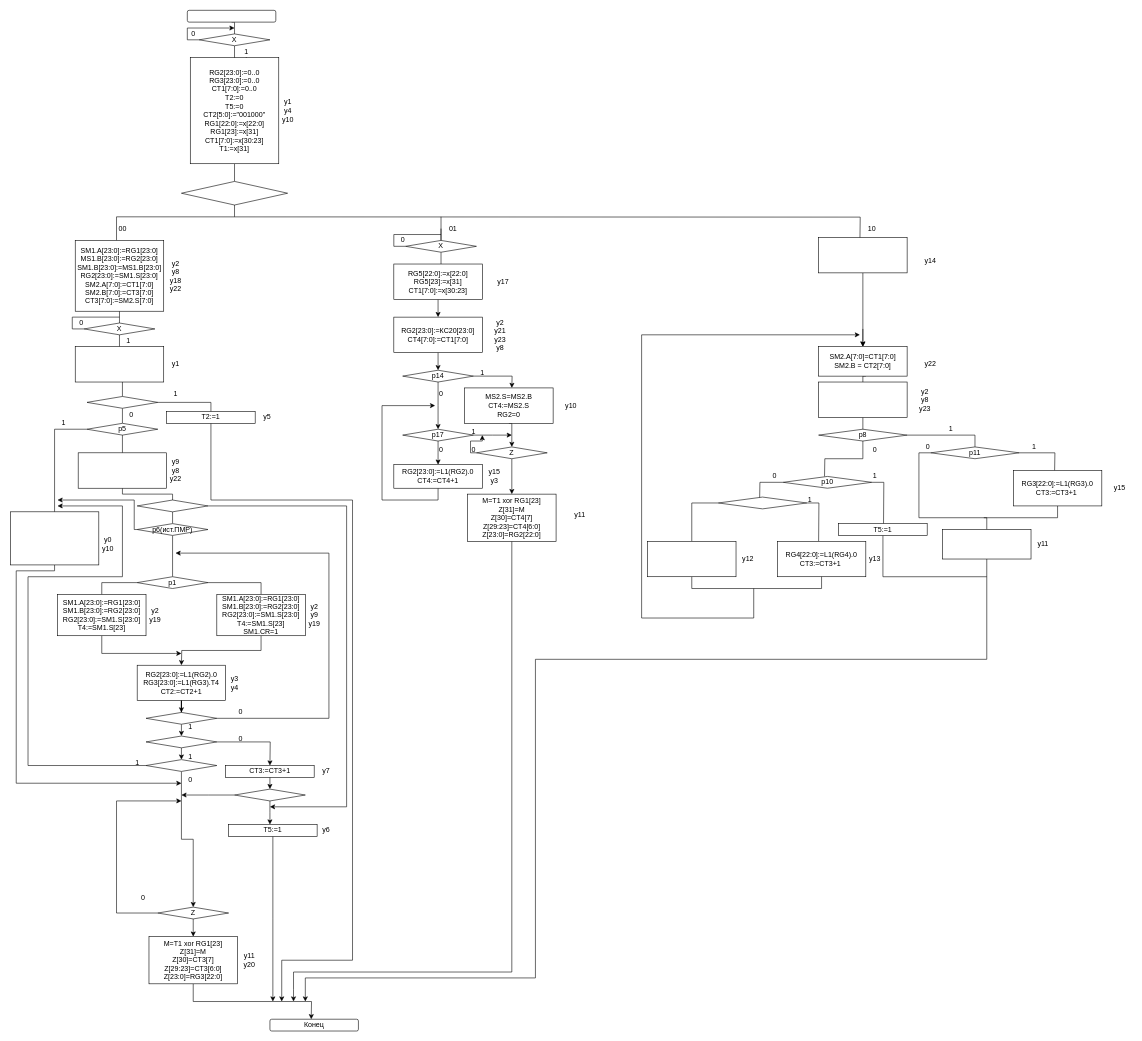
The diagram is 1142 pixels wide and 1041 high, and some of its shapes have lost their labels. The centre of each missing label's shape, as x and y in pixels:
p0: pixel 181 718
p2: pixel 181 765
p3: pixel 269 795
p3(PRS): pixel 172 505
p4(DNN): pixel 122 402
p7: pixel 181 741
p9: pixel 762 502
RG1[22:0]:=L1(RG1).0 CT1:=CT1+1: pixel 691 559
RG1[22:0]:=x[22:0] RG1[23]:=x[31] CT1[7:0]:=x[30:23] T1:=x[31]: pixel 119 364
RG2[22:0]:=SM1.S[22:0] CT4[7:0]:=SM2.S[7:0]: pixel 862 399
RG2[23:0]:=0..0 RG3[23:0]:=0..0 CT3[7:0]:=0..0 T2:=0 T5:=0 T1:=0: pixel 54 538
RG4[22:0]:=10..0 CT3[8:0]:=010..0 SM1.A[22:0]=RG1[22:0] SM1.B[22:0]=RG4[22:0]: pixel 862 255
SM2.A[7:0]:=CT1[7:0] SM2.B[7:0]:=CT3[7:0] CT4[7:0]:=SM2.S[7:0]: pixel 122 470
Z[31:23]=CT4[7:0] Z[22:0]=RG2[22:0]: pixel 986 544
КОП: pixel 234 193
Начало: pixel 231 16
